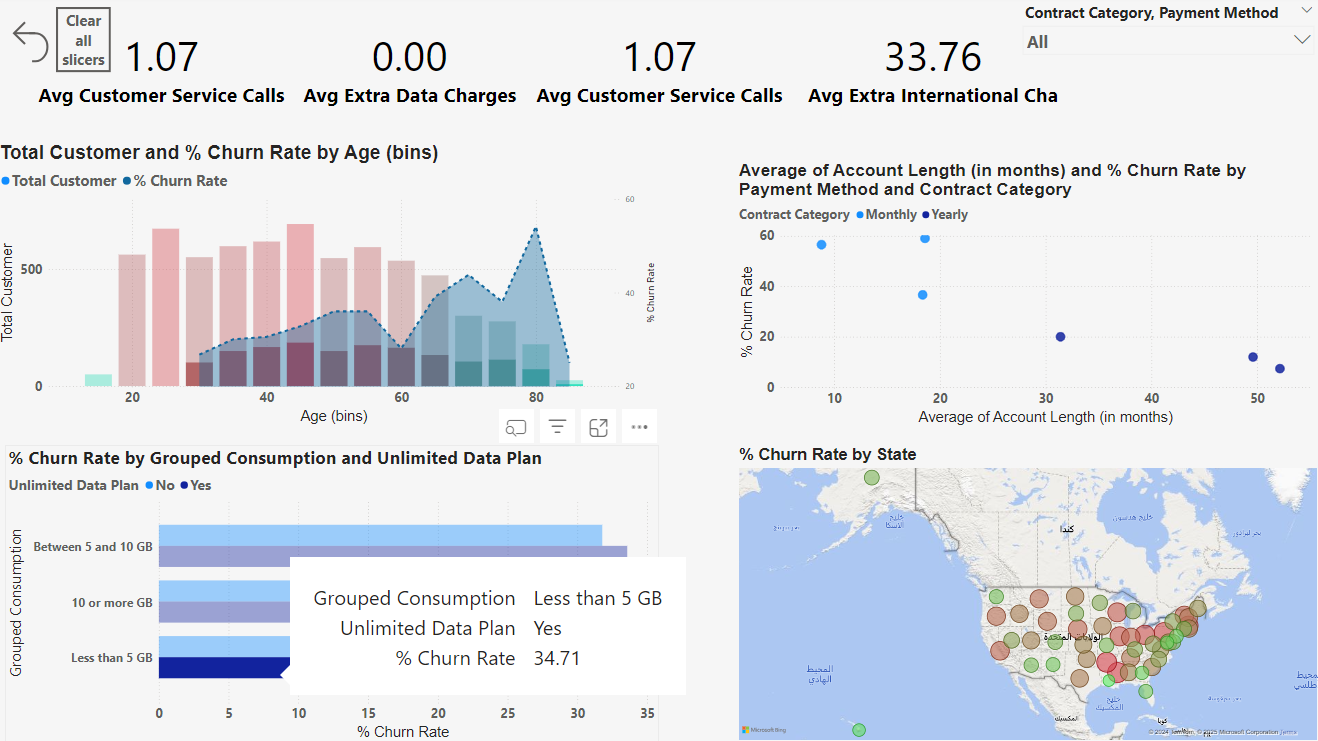

The page's visual inventory and layout, read from the dashboard file:
{"tool":"powerbi","page":{"name":"Customer Overview","canvas":[1920,1080],"ordinal":1},"visuals":[{"type":"card","fields":{"Values":["#Measures.Avg Customer Service Calls"]},"box":[43.5,27.2,391.6,138.7],"z":0},{"type":"map","fields":{"Category":["Databel - Data.State"],"Size":["#Measures.% Churn Rate"]},"box":[1071.5,647.3,848.5,432.4],"z":1000},{"type":"clusteredBarChart","fields":{"Category":["Databel - Data.Grouped Consumption"],"Series":["Databel - Data.Unlimited Data Plan"],"Y":["#Measures.% Churn Rate"]},"box":[13.6,647.3,946.4,432.4],"z":2000},{"type":"scatterChart","fields":{"X":["Databel - Data.Account Length (in months)"],"Category":["Databel - Data.Payment Method"],"Series":["Databel - Data.Contract Category"],"Y":["#Measures.% Churn Rate"]},"box":[1071.5,233.9,848.5,388.9],"z":3000},{"type":"slicer","fields":{"Values":["Databel - Data.Contract Category","Databel - Data.Payment Method"]},"box":[1478.4,0,442.3,208.7],"z":4000},{"type":"lineStackedColumnComboChart","fields":{"Category":["Databel - Data.Age (bins)"],"Y":["#Measures.Total Customer"],"Y2":["#Measures.% Churn Rate"]},"box":[0,209.4,960,413.4],"z":6000},{"type":"card","fields":{"Values":["#Measures.Avg Extra Data Charges"]},"box":[402.5,27.2,394.3,138.7],"z":7000},{"type":"card","fields":{"Values":["#Measures.Avg Customer Service Calls"]},"box":[764.2,27.2,391.6,138.7],"z":8000},{"type":"card","fields":{"Values":["#Measures.Avg Extra International Charges"]},"box":[1155.8,27.2,402.5,138.7],"z":9000},{"type":"actionButton","box":[87,12.4,79.5,94.4],"z":10000},{"type":"actionButton","box":[12.4,22.4,74.5,84.5],"z":11000}]}

Visuals, with their boxes in screenshot pixels (x1, y1, x2, y2), scaled from the page's 1920x1080 canvas onto the 1318x741 screenshot:
card - #Measures.Avg Customer Service Calls: box(30, 19, 299, 114)
map - Databel - Data.State x #Measures.% Churn Rate: box(736, 444, 1317, 740)
clusteredBarChart - Databel - Data.Grouped Consumption x Databel - Data.Unlimited Data Plan: box(9, 444, 659, 740)
scatterChart - Databel - Data.Account Length (in months) x Databel - Data.Payment Method: box(736, 160, 1317, 427)
slicer - Databel - Data.Contract Category x Databel - Data.Payment Method: box(1015, 0, 1317, 143)
lineStackedColumnComboChart - Databel - Data.Age (bins) x #Measures.Total Customer: box(0, 144, 659, 427)
card - #Measures.Avg Extra Data Charges: box(276, 19, 547, 114)
card - #Measures.Avg Customer Service Calls: box(525, 19, 793, 114)
card - #Measures.Avg Extra International Charges: box(793, 19, 1070, 114)
actionButton: box(60, 9, 114, 73)
actionButton: box(9, 15, 60, 73)
